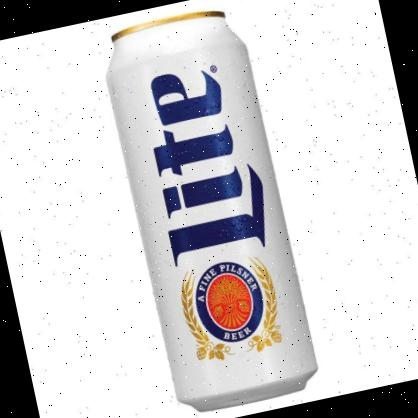can: (94, 1, 324, 416)
